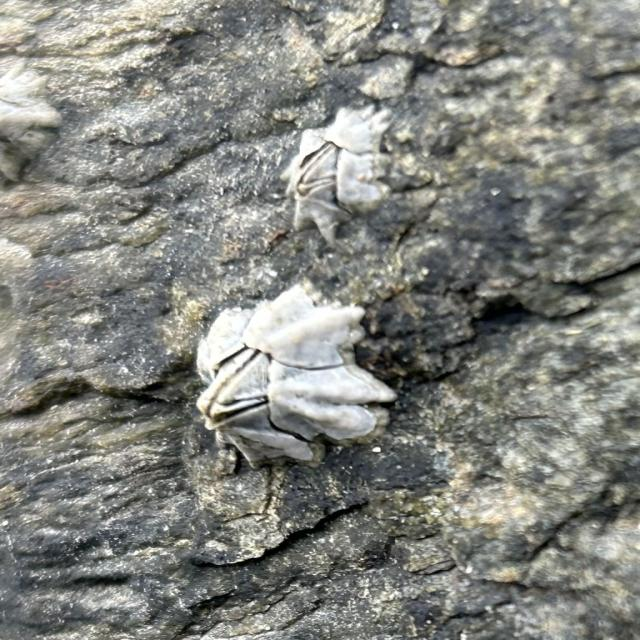barnacles: (162, 282, 395, 468), (265, 115, 404, 252)
